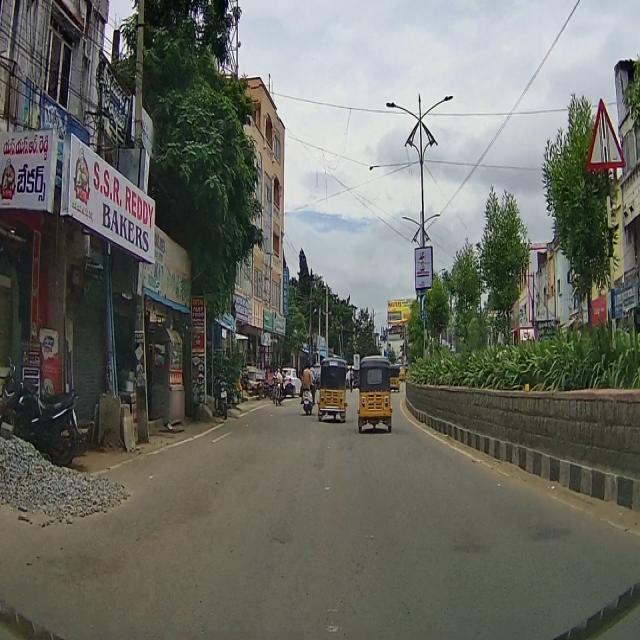gap-in-median: (590, 100, 622, 163)
